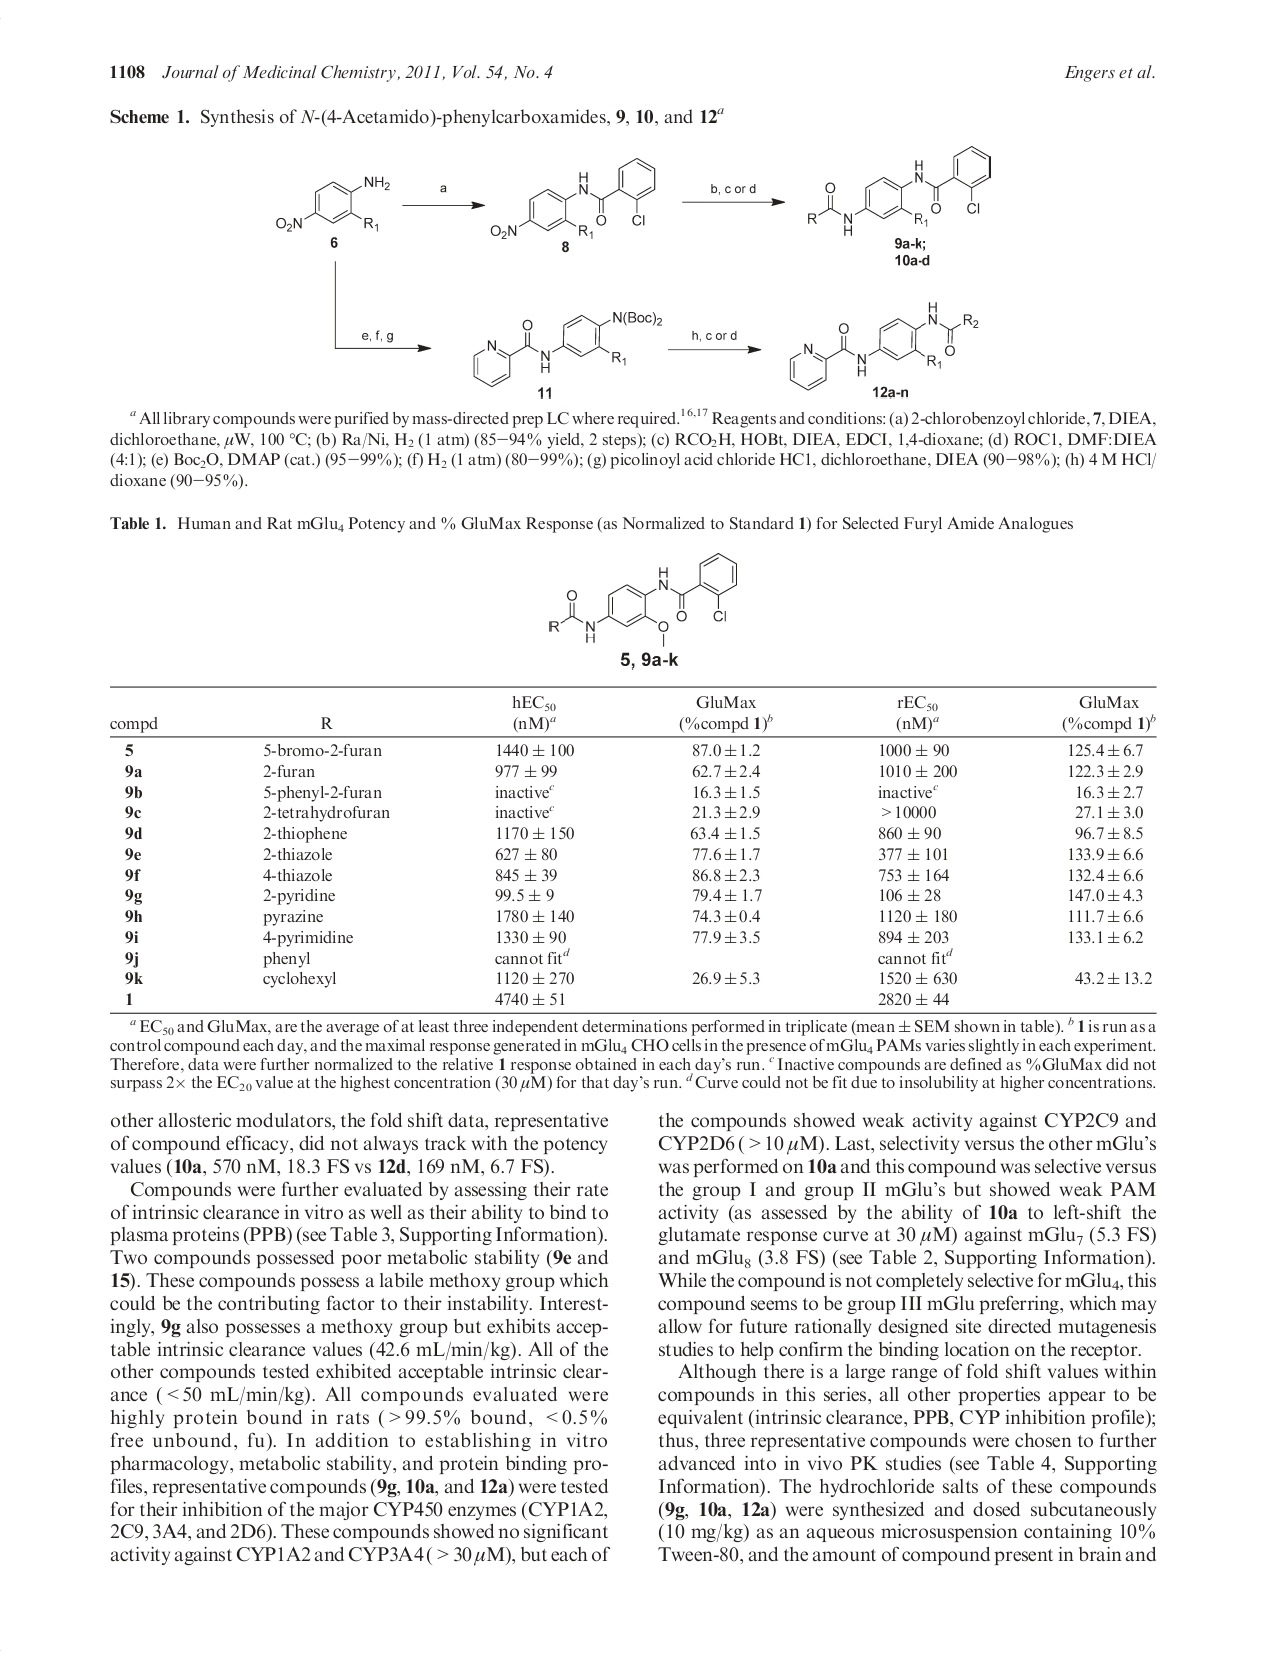exist_molecular: (540, 549, 739, 649), (801, 142, 993, 239), (785, 298, 980, 394), (467, 306, 664, 390), (487, 154, 660, 241), (273, 172, 391, 234)
